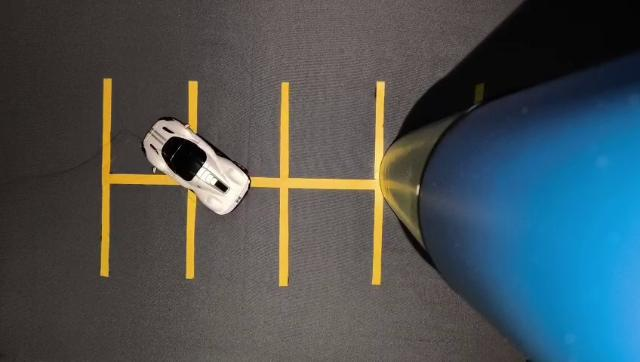toy_car: (113, 101, 295, 249)
